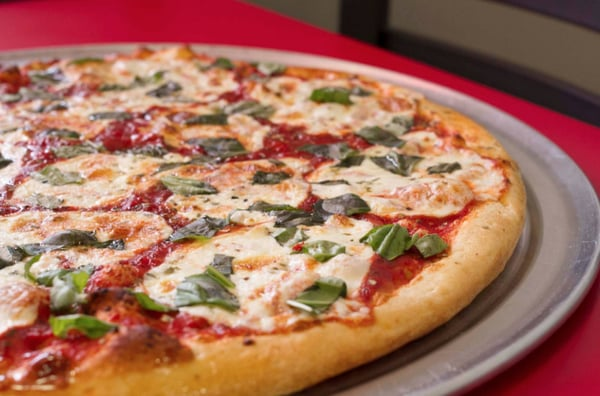sandwich: (0, 44, 521, 392)
